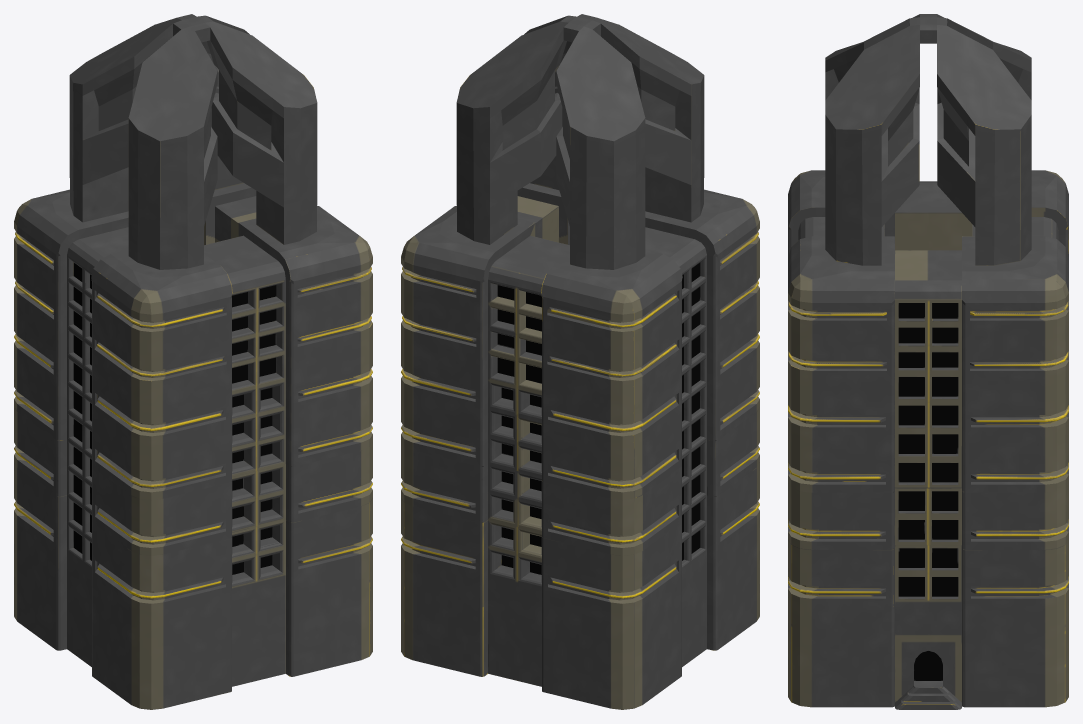
Rendered from Militech Tower.fbx.
3 renders of one model, left to right at view 1: azimuth 30°, elevation 25°; view 2: azimuth 150°, elevation 25°; view 3: azimuth 270°, elevation 25°, orthographic. The views are drawn at different scales.
Visible parts, largest first — view 1: Cube.003; view 2: Cube.003; view 3: Cube.003.
Part boxes in pixels (box(x1,y1,x2,y2)): Cube.003: box(14, 14, 372, 709); Cube.003: box(401, 14, 759, 709); Cube.003: box(788, 14, 1068, 709).
Bounding box in the file's own units: 5689 × 13660 × 5549.
1 material, 1 textured.
